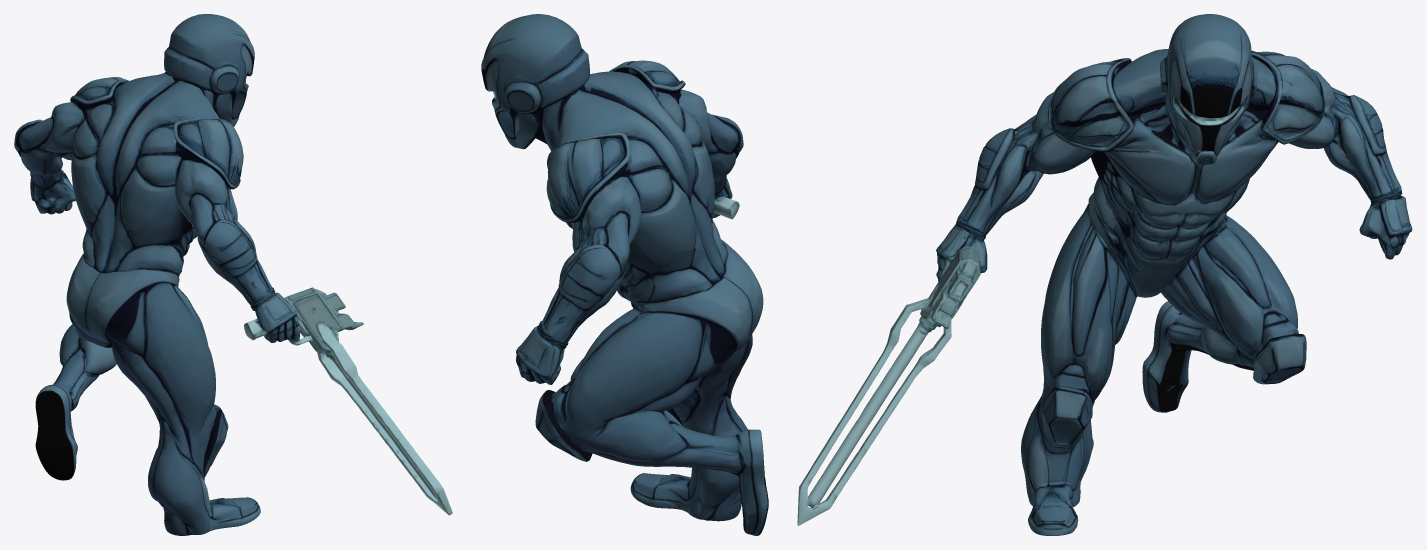
File: starhawk3d.glb
The picture shows the model from 3 angles, left to right: view 1: azimuth 30°, elevation 25°; view 2: azimuth 150°, elevation 25°; view 3: azimuth 270°, elevation 25°; orthographic projection. The views are drawn at different scales.
Parts seen in each view (by area): view 1: tripo_node_b985716a-8bd0-4d34-b1eb-2e805de52c4e; view 2: tripo_node_b985716a-8bd0-4d34-b1eb-2e805de52c4e; view 3: tripo_node_b985716a-8bd0-4d34-b1eb-2e805de52c4e.
Boxes of the visible parts, left/top/right/bottom form: tripo_node_b985716a-8bd0-4d34-b1eb-2e805de52c4e: left=14, top=14, right=452, bottom=535; tripo_node_b985716a-8bd0-4d34-b1eb-2e805de52c4e: left=481, top=14, right=768, bottom=535; tripo_node_b985716a-8bd0-4d34-b1eb-2e805de52c4e: left=797, top=14, right=1412, bottom=535.
Size of the model in its own units: 0.5764 by 0.9505 by 1.
Materials: 1 (1 with a texture image).
